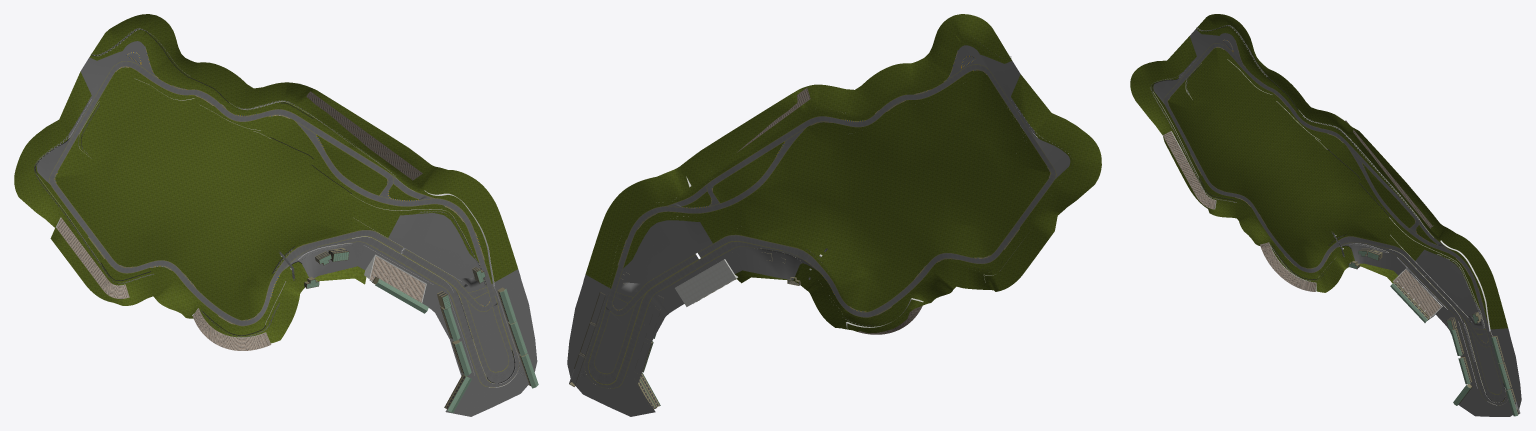
File: Raceway.obj
3 views of the same model, side by side, from view 1: azimuth 30°, elevation 25°; view 2: azimuth 150°, elevation 25°; view 3: azimuth 330°, elevation 25° (orthographic). The views are drawn at different scales.
Parts seen in each view (by area): view 1: Raceway; view 2: Raceway; view 3: Raceway.
Boxes of the visible parts, x1,y1,x2,y2 form: Raceway: (14,14,538,416); Raceway: (567,14,1101,416); Raceway: (1130,14,1521,416).
Bounding box in the file's own units: 47892 × 41874 × 2627.
15 materials, 15 textured.
